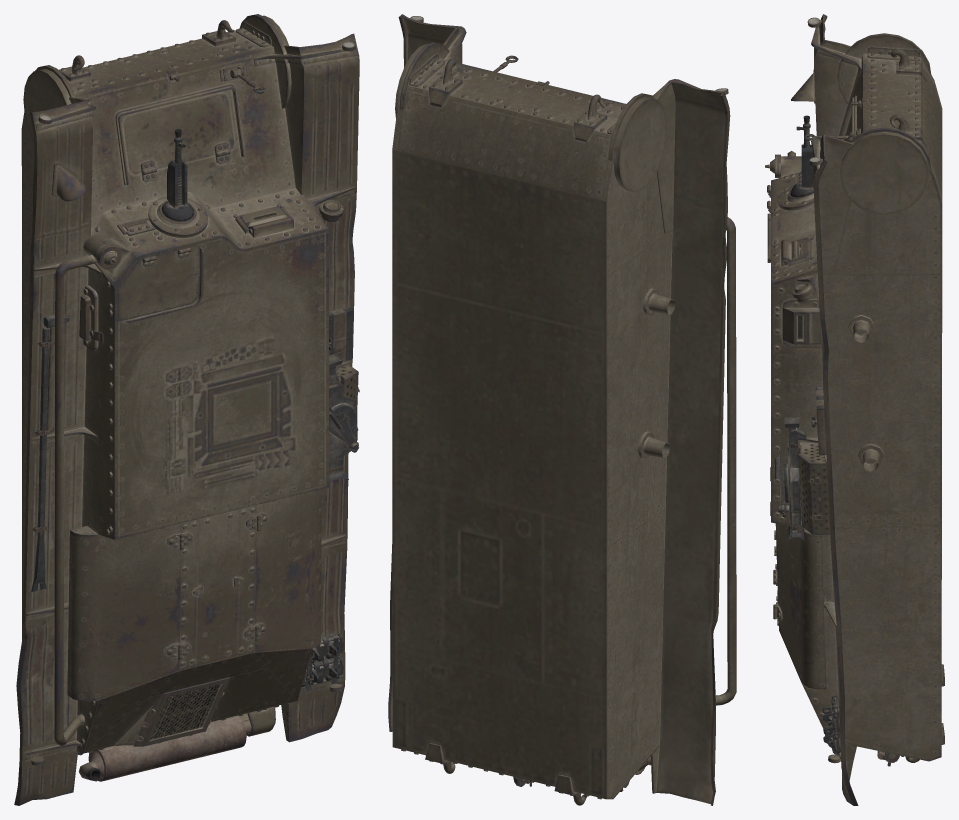
The model's file is Hull.glb.
3 views of the same model, side by side, from view 1: azimuth 30°, elevation 25°; view 2: azimuth 150°, elevation 25°; view 3: azimuth 270°, elevation 25° (orthographic). The views are drawn at different scales.
Visible parts, largest first — view 1: set_0_group_0; view 2: set_0_group_0; view 3: set_0_group_0.
Boxes of the visible parts, x1=… form: set_0_group_0: x1=14, y1=14, x2=359, y2=805; set_0_group_0: x1=388, y1=14, x2=736, y2=805; set_0_group_0: x1=765, y1=14, x2=944, y2=805.
Bounding box in the file's own units: 2.17 × 4.5 × 1.12.
1 material, 1 textured.
